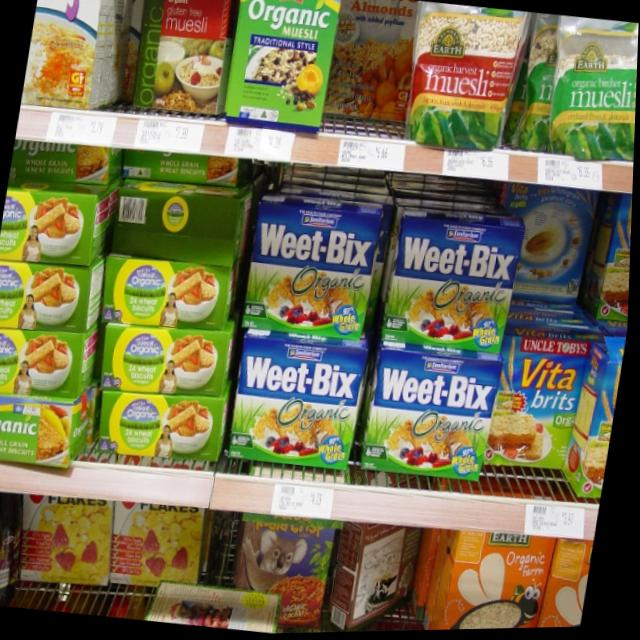q7: (237, 194, 390, 353), (375, 211, 526, 372), (224, 334, 376, 481), (363, 353, 512, 498)
